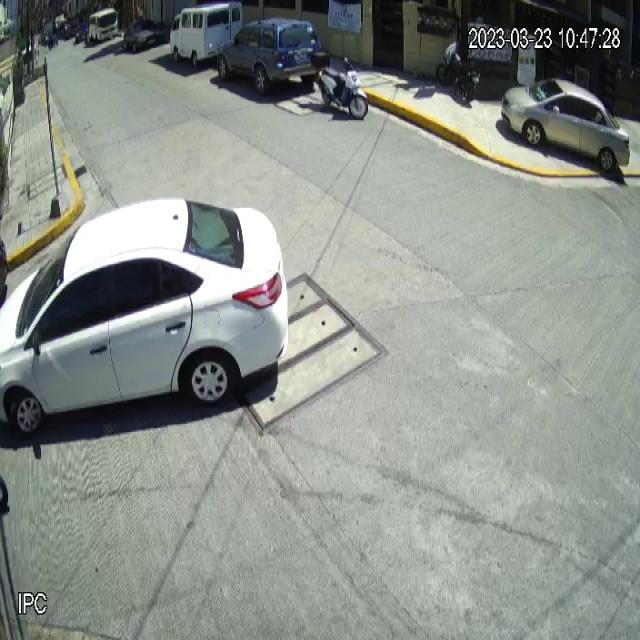Car: (0, 198, 290, 439), (501, 76, 630, 170), (217, 16, 322, 95)
Motorcycle: (311, 51, 368, 120)
Van: (170, 0, 244, 69)
